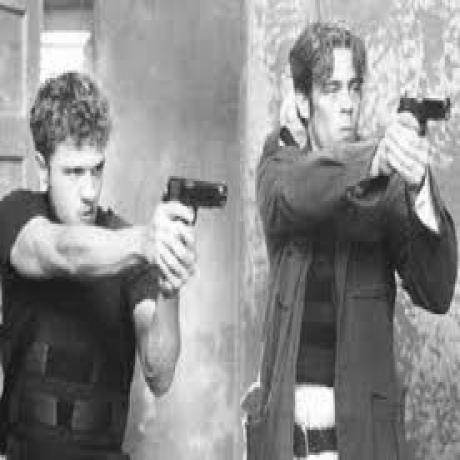Guns: (162, 165, 225, 229), (395, 84, 452, 134)
